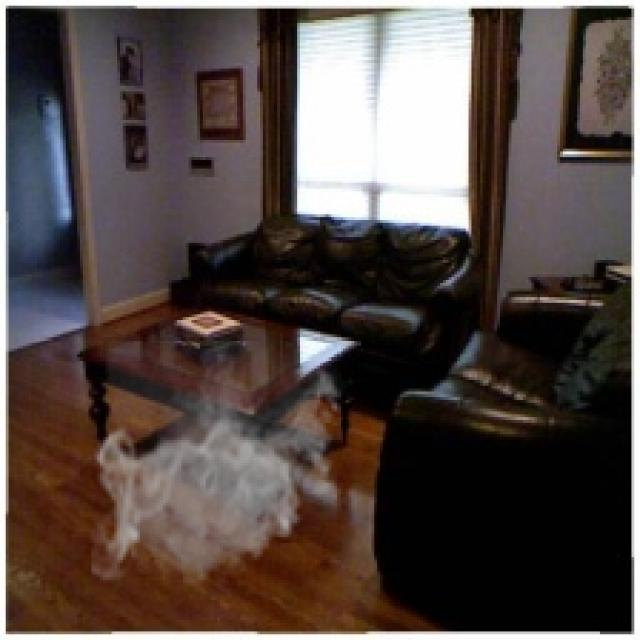smoke: (92, 340, 348, 594)
